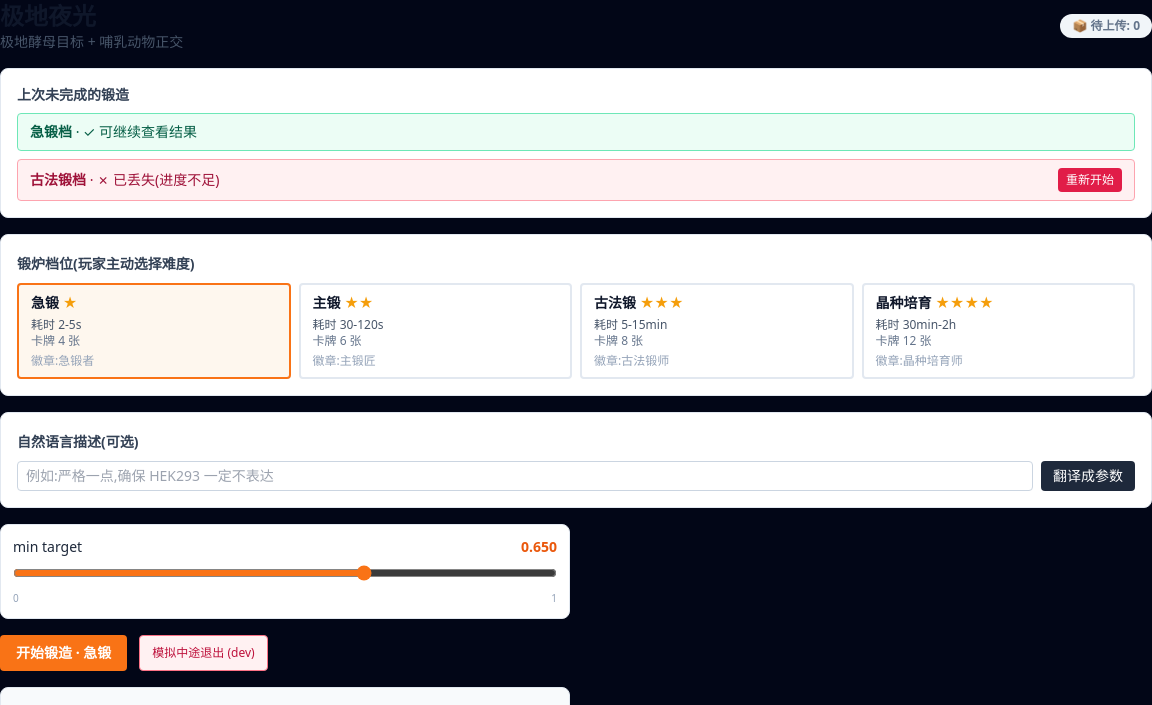
Scenario: ForgePage · upload toast (Phase 3 Task 5) › shows success toast when upload.status === "uploaded"
Expected: the element with test id "ritual-selector" is shown, x1=0 y1=234 x2=1151 y2=396
What coordinates should you click on to do the following:
click the button with test id "forge-run"
I would click on:
 (64, 653)
Its box is x1=0 y1=635 x2=127 y2=671.
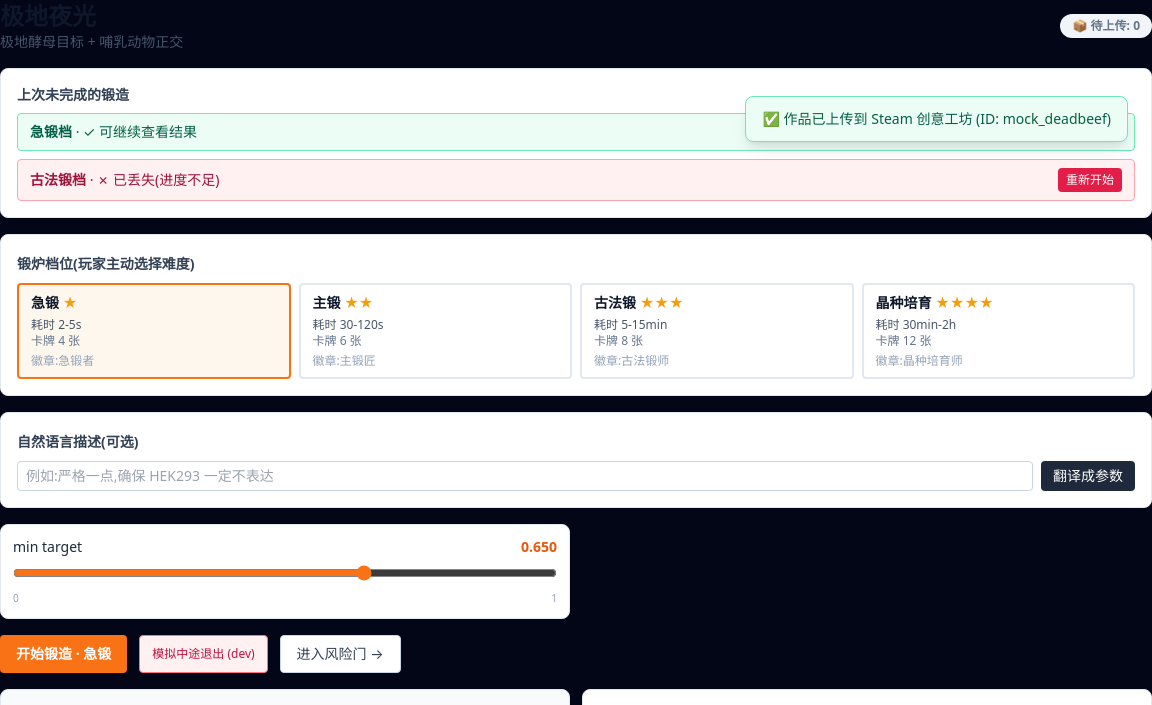
Expected: the message with test id "upload-toast" shows "已上传", x1=746 y1=96 x2=1128 y2=142
Expected: the message with test id "upload-toast" shows "mock_deadbeef", x1=762 y1=109 x2=1111 y2=128
